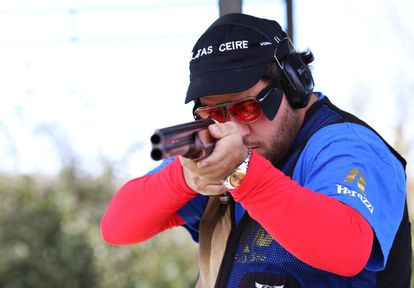weapon: (151, 121, 215, 162)
